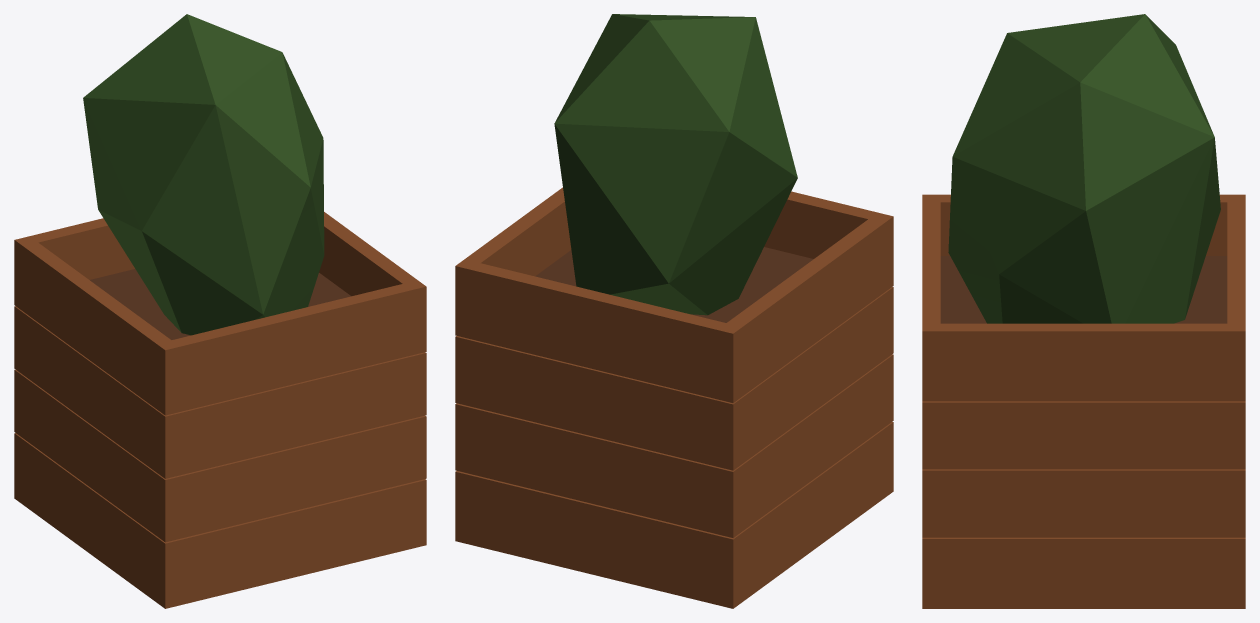
The model's file is Bushes_2.fbx.
The picture shows the model from 3 angles, left to right: view 1: azimuth 30°, elevation 25°; view 2: azimuth 150°, elevation 25°; view 3: azimuth 270°, elevation 25°; orthographic projection. The views are drawn at different scales.
Parts seen in each view (by area): view 1: Bushes_2; view 2: Bushes_2; view 3: Bushes_2.
Boxes of the visible parts, <box> form: Bushes_2: <box>14,14,426,608</box>; Bushes_2: <box>455,14,893,608</box>; Bushes_2: <box>922,14,1245,608</box>.
Size of the model in its own units: 60.21 by 108 by 60.21.
